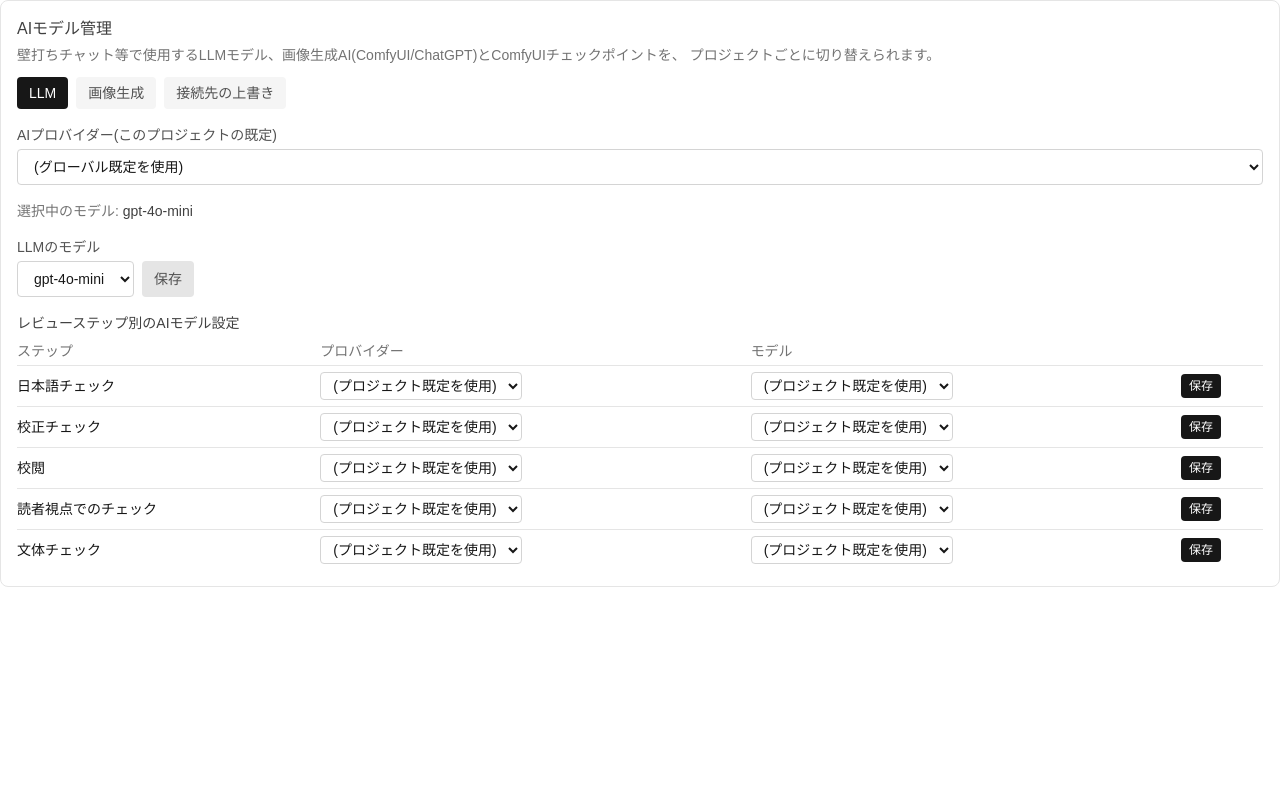
Test: ProjectAiModelsPanel のLLMタブ(issue #1212) › 画像生成タブへ切り替えると、そのタブのデータを取得して表示する(LLMタブの表示には影響しない)
This screenshot has width=1280, height=800.
expect the text "選択中のモデル:" is shown: met, box [17, 203, 123, 219]
Click the button "画像生成" at (116, 93), box [76, 77, 156, 109]
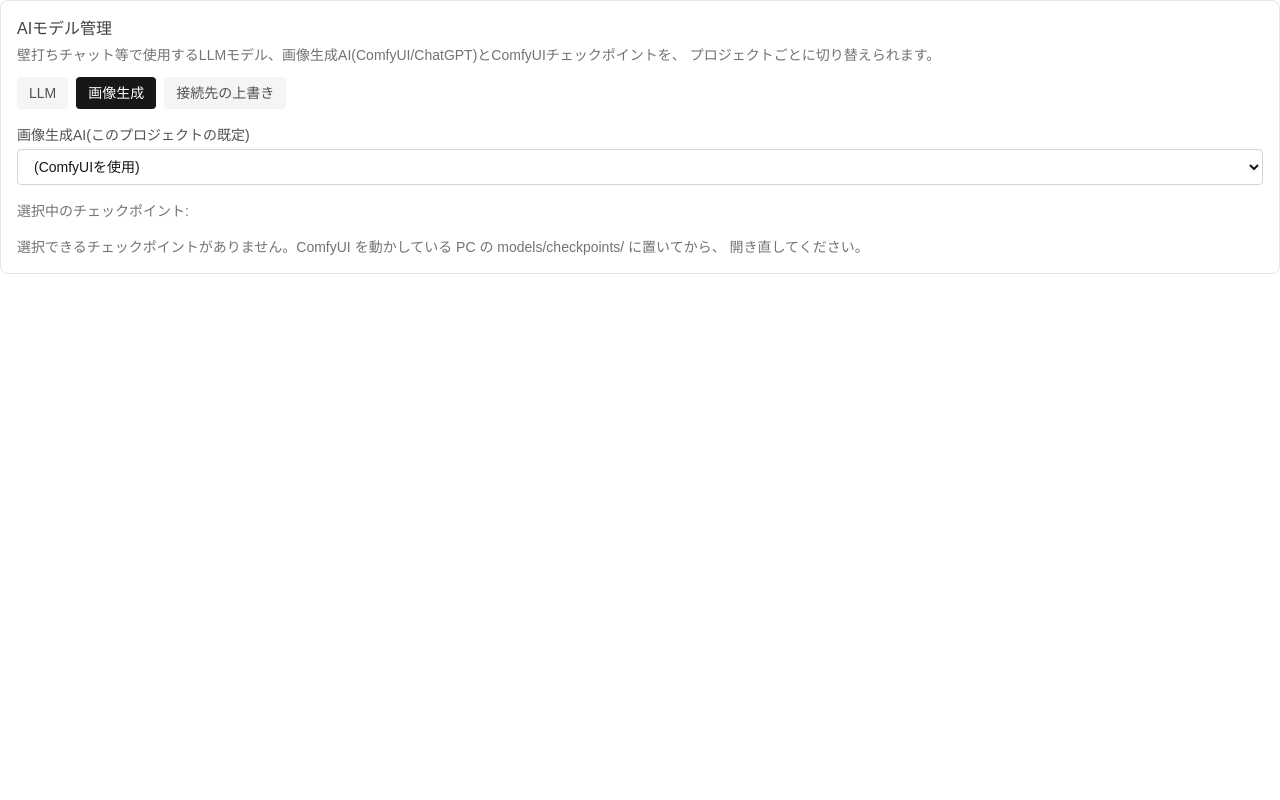
expect the text "レビューステップ別のAIモデル設定" is gone: met
